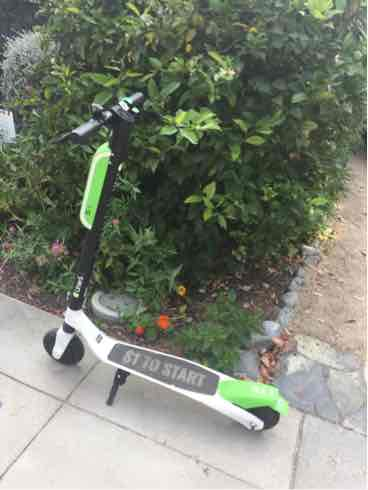scooter: (34, 85, 294, 444)
